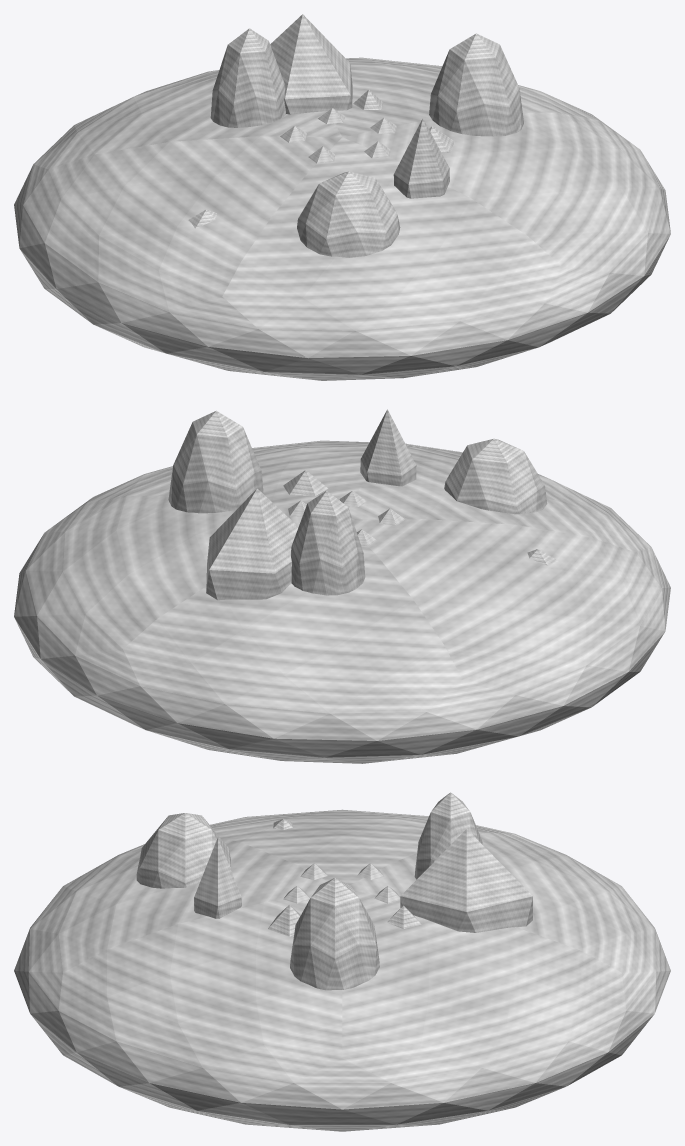
File: coal_node_variant_a.glb
3 renders of one model, top to bottom at view 1: azimuth 30°, elevation 25°; view 2: azimuth 150°, elevation 25°; view 3: azimuth 270°, elevation 25°, orthographic.
Parts seen in each view (by area): view 1: Resource node bedrock, Exposed ore formation.001, Exposed ore formation.007, Exposed ore formation.004, Exposed ore formation.003, Exposed ore formation.008; view 2: Resource node bedrock, Exposed ore formation.003, Exposed ore formation.001, Exposed ore formation.004, Exposed ore formation.007, Exposed ore formation.008, Exposed ore formation.009; view 3: Resource node bedrock, Exposed ore formation.003, Exposed ore formation.001, Exposed ore formation.007, Exposed ore formation.004, Exposed ore formation.008, Exposed ore formation.009.
Part boxes in pixels (<box>): Resource node bedrock: <box>14,57,670,380</box>; Exposed ore formation.001: <box>429,33,523,136</box>; Exposed ore formation.007: <box>297,171,400,257</box>; Exposed ore formation.004: <box>210,28,285,127</box>; Exposed ore formation.003: <box>270,14,352,114</box>; Exposed ore formation.008: <box>393,118,449,198</box>; Resource node bedrock: <box>14,440,670,763</box>; Exposed ore formation.003: <box>206,488,298,600</box>; Exposed ore formation.001: <box>168,410,263,513</box>; Exposed ore formation.004: <box>291,490,365,595</box>; Exposed ore formation.007: <box>444,438,547,514</box>; Exposed ore formation.008: <box>360,409,416,486</box>; Exposed ore formation.009: <box>283,470,327,495</box>; Resource node bedrock: <box>14,809,670,1131</box>; Exposed ore formation.003: <box>400,829,532,932</box>; Exposed ore formation.001: <box>290,878,379,990</box>; Exposed ore formation.007: <box>136,813,230,888</box>; Exposed ore formation.004: <box>414,792,482,879</box>; Exposed ore formation.008: <box>194,837,241,918</box>; Exposed ore formation.009: <box>268,905,300,936</box>.
Size of what is drawn, in the model's own units: 6.2 by 2.51 by 6.2.
Materials: 2 (2 with a texture image).
